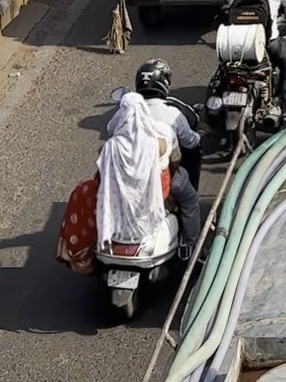BikeWithRider: (50, 54, 222, 324)
Helmet: (134, 56, 176, 102)
NoHelmet: (116, 90, 150, 128)
